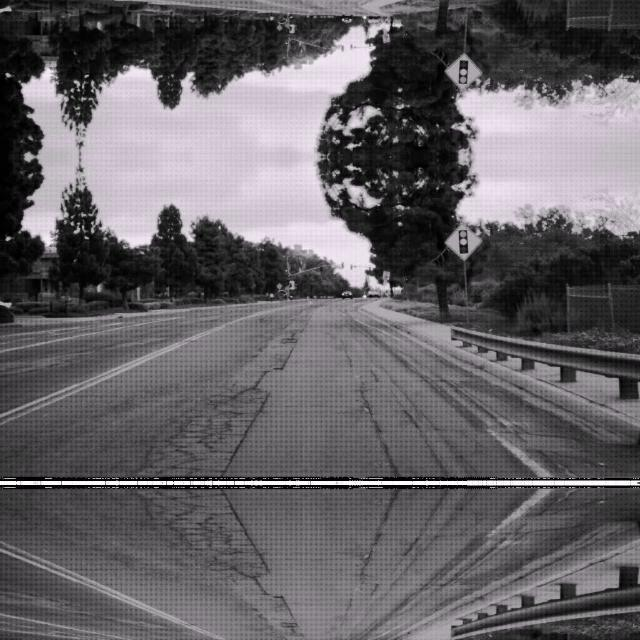signalAhead: (444, 221, 482, 259), (444, 53, 482, 91)
